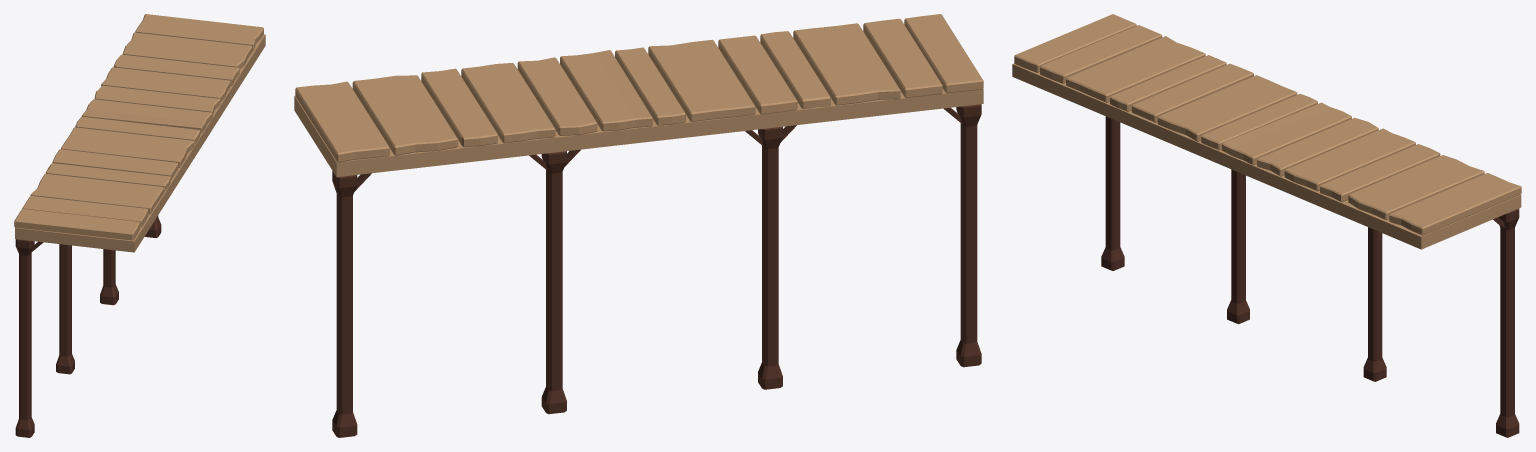
File: balcony-c.glb
The picture shows the model from 3 angles, left to right: view 1: azimuth 30°, elevation 25°; view 2: azimuth 150°, elevation 25°; view 3: azimuth 270°, elevation 25°; orthographic projection. The views are drawn at different scales.
Visible parts, largest first — view 1: Balcony C (×2); view 2: Balcony C (×2); view 3: Balcony C (×2).
Boxes of the visible parts, x1,y1,x2,y2 form: Balcony C (×2): (14,14,265,437); Balcony C (×2): (294,14,983,437); Balcony C (×2): (1012,14,1521,437).
Size of the model in its own units: 4.07 by 2.2 by 4.08.
